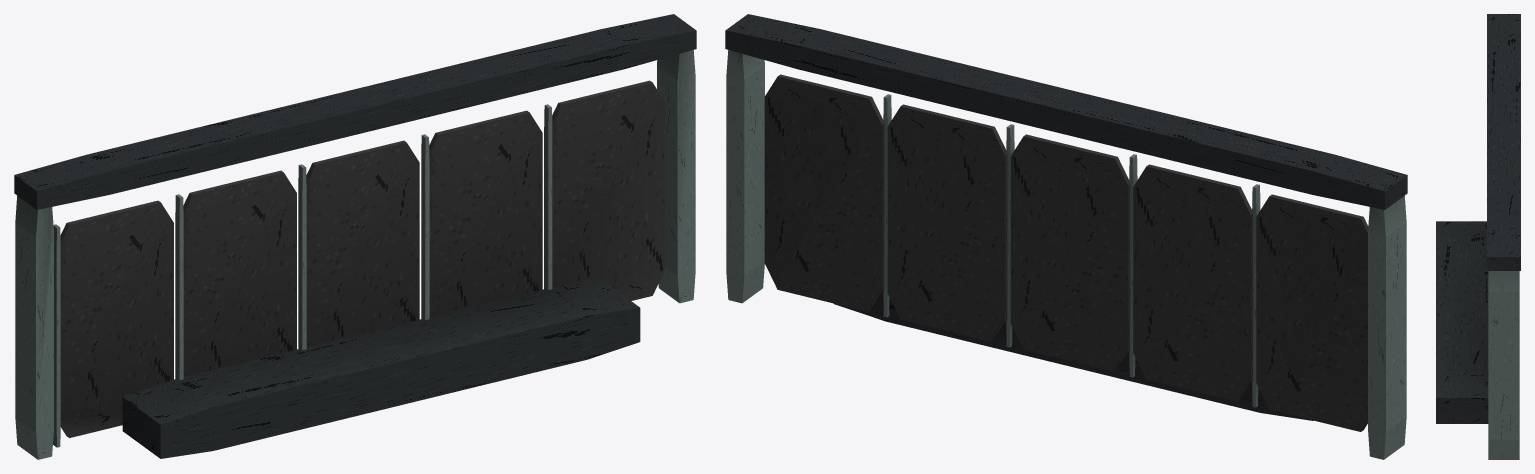
File: storefront.glb
The picture shows the model from 3 angles, left to right: view 1: azimuth 30°, elevation 25°; view 2: azimuth 150°, elevation 25°; view 3: azimuth 270°, elevation 25°; orthographic projection. The views are drawn at different scales.
Parts seen in each view (by area): view 1: display, lintel, pane0, pane4, pane2, pane1, pane3, jamb-1, jamb1, mullion1, mullion2, mullion3 (+2 smaller); view 2: lintel, pane4, pane3, pane1, pane2, pane0, jamb-1, jamb1, display, mullion4, mullion3, mullion2 (+1 smaller); view 3: display, lintel, jamb1.
Boxes of the visible parts, x1,y1,x2,y2 form: display: [122, 280, 640, 458]; lintel: [14, 14, 696, 209]; pane0: [60, 200, 173, 437]; pane4: [552, 80, 665, 300]; pane2: [306, 140, 419, 346]; pane1: [183, 170, 296, 376]; pane3: [429, 110, 542, 316]; jamb-1: [15, 196, 53, 459]; jamb1: [657, 50, 695, 303]; mullion1: [175, 194, 183, 379]; mullion2: [298, 164, 306, 349]; mullion3: [421, 134, 429, 319]; lintel: [725, 14, 1407, 209]; pane4: [764, 74, 884, 311]; pane3: [887, 104, 1007, 341]; pane1: [1133, 164, 1252, 401]; pane2: [1010, 134, 1129, 371]; pane0: [1256, 194, 1368, 431]; jamb-1: [1368, 196, 1406, 459]; jamb1: [726, 50, 764, 303]; display: [834, 293, 1313, 420]; mullion4: [883, 94, 891, 317]; mullion3: [1006, 124, 1014, 347]; mullion2: [1129, 154, 1137, 377]; display: [1436, 221, 1488, 423]; lintel: [1487, 14, 1520, 270]; jamb1: [1488, 271, 1519, 459].
Bounding box in the file's own units: 11 × 4.34 × 1.62.
Materials: 1 (1 with a texture image).
